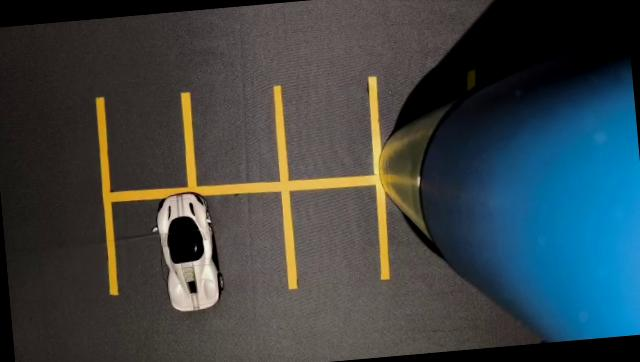toy_car: (142, 174, 245, 332)
